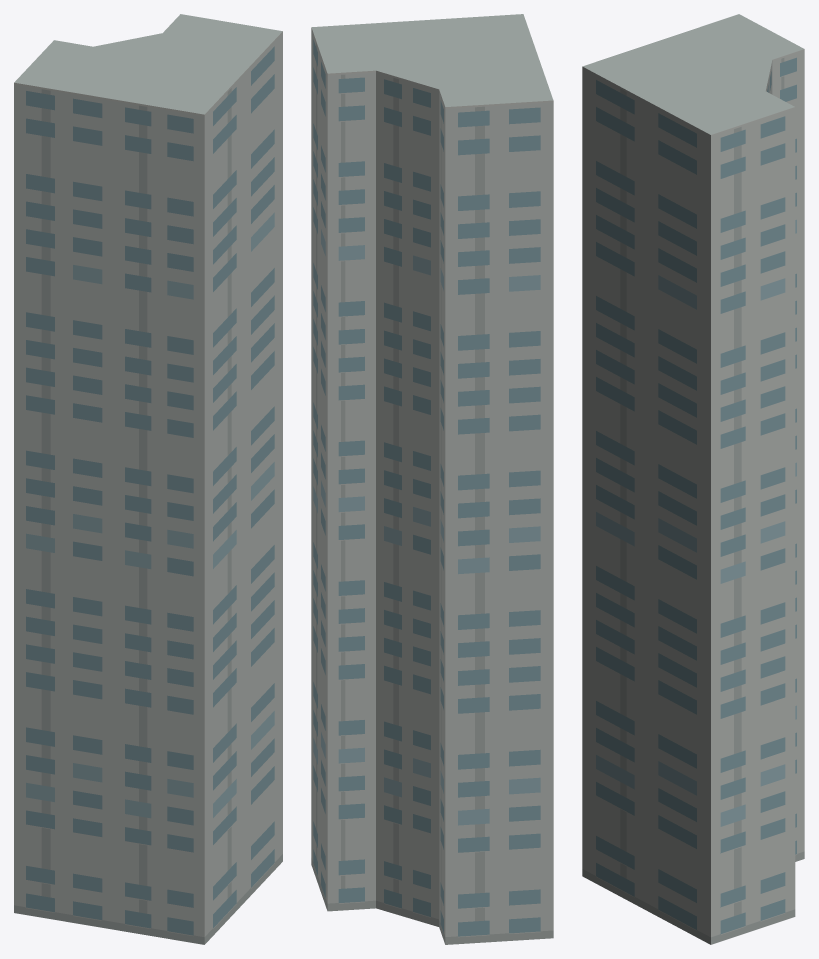
Rendered from residential-b3c8c4a0-76d5-4c3e-b3d1-43ff9d929b18.glb.
3 views of the same model, side by side, from view 1: azimuth 30°, elevation 25°; view 2: azimuth 150°, elevation 25°; view 3: azimuth 270°, elevation 25° (orthographic). The views are drawn at different scales.
Parts seen in each view (by area): view 1: residential-b3c8c4a0-76d5-4c3e-b3d1-43ff9d929b18.tmp; view 2: residential-b3c8c4a0-76d5-4c3e-b3d1-43ff9d929b18.tmp; view 3: residential-b3c8c4a0-76d5-4c3e-b3d1-43ff9d929b18.tmp.
Boxes of the visible parts, bbox=[...] form: residential-b3c8c4a0-76d5-4c3e-b3d1-43ff9d929b18.tmp: bbox=[14, 14, 282, 944]; residential-b3c8c4a0-76d5-4c3e-b3d1-43ff9d929b18.tmp: bbox=[311, 14, 553, 944]; residential-b3c8c4a0-76d5-4c3e-b3d1-43ff9d929b18.tmp: bbox=[582, 14, 804, 944].
Bounding box in the file's own units: 33.99 × 106 × 26.38.
